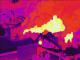Foc: (19, 10, 68, 36), (61, 28, 77, 46)
